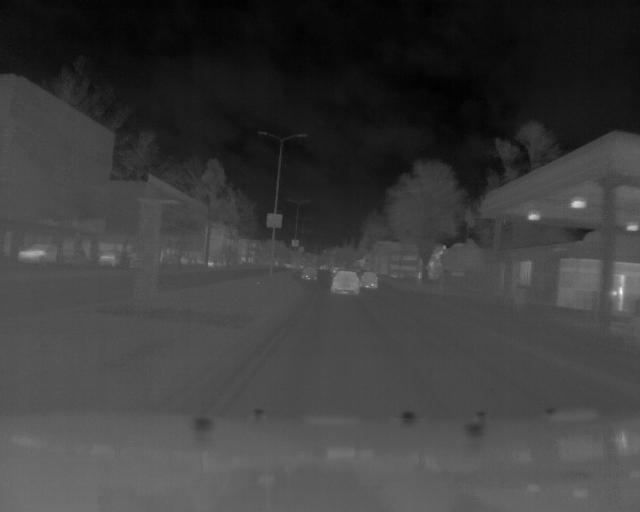car: (327, 270, 361, 296), (357, 271, 380, 289), (298, 266, 318, 280)
